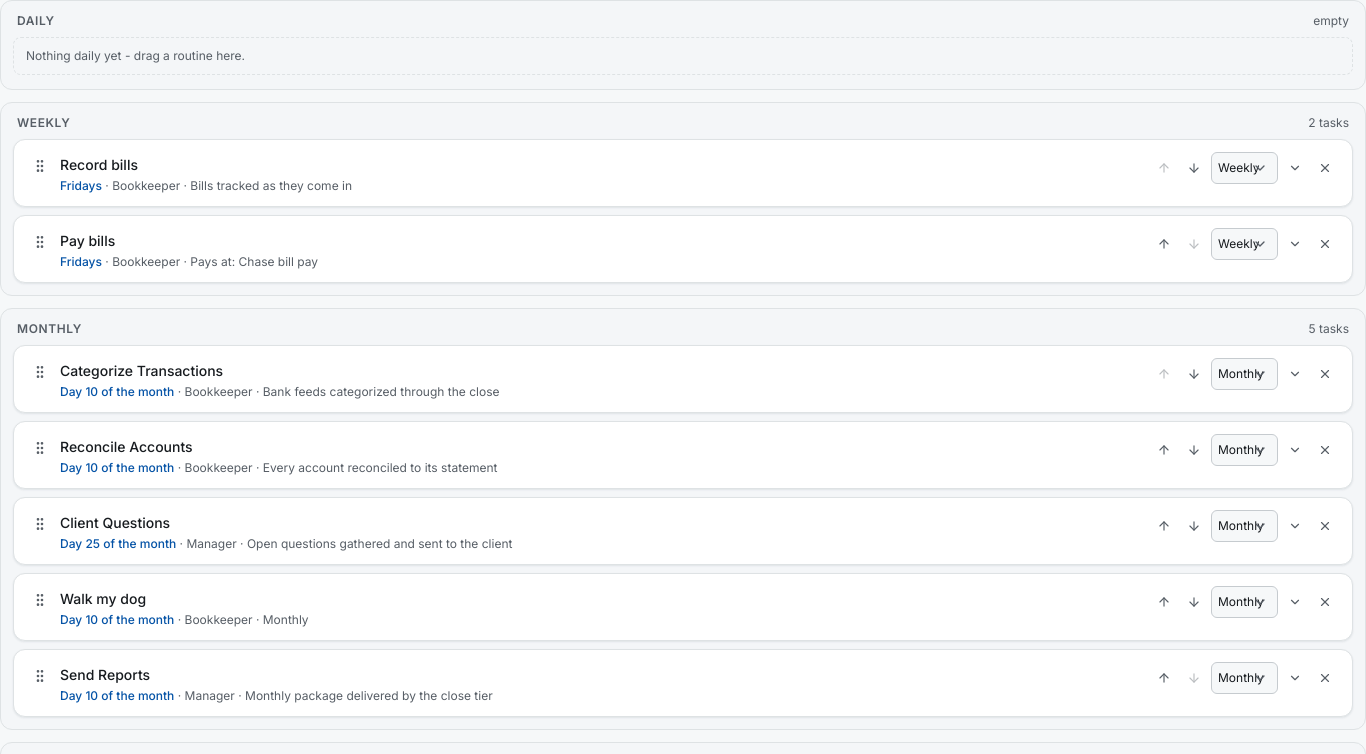
Test: L1/H2: scheduler_x_unticks_the_service (10_06 00:42:51) › X on record-bills confirms, then clears recordBills AND payBills with locations
The width and height of the screenshot is (1366, 754).
Expected: the list item with test id "routine-card-record-bills" is shown, [13,139,1353,207]
Click the button with test id "remove-record-bills" at (1325, 168), box [1312,155,1338,181]
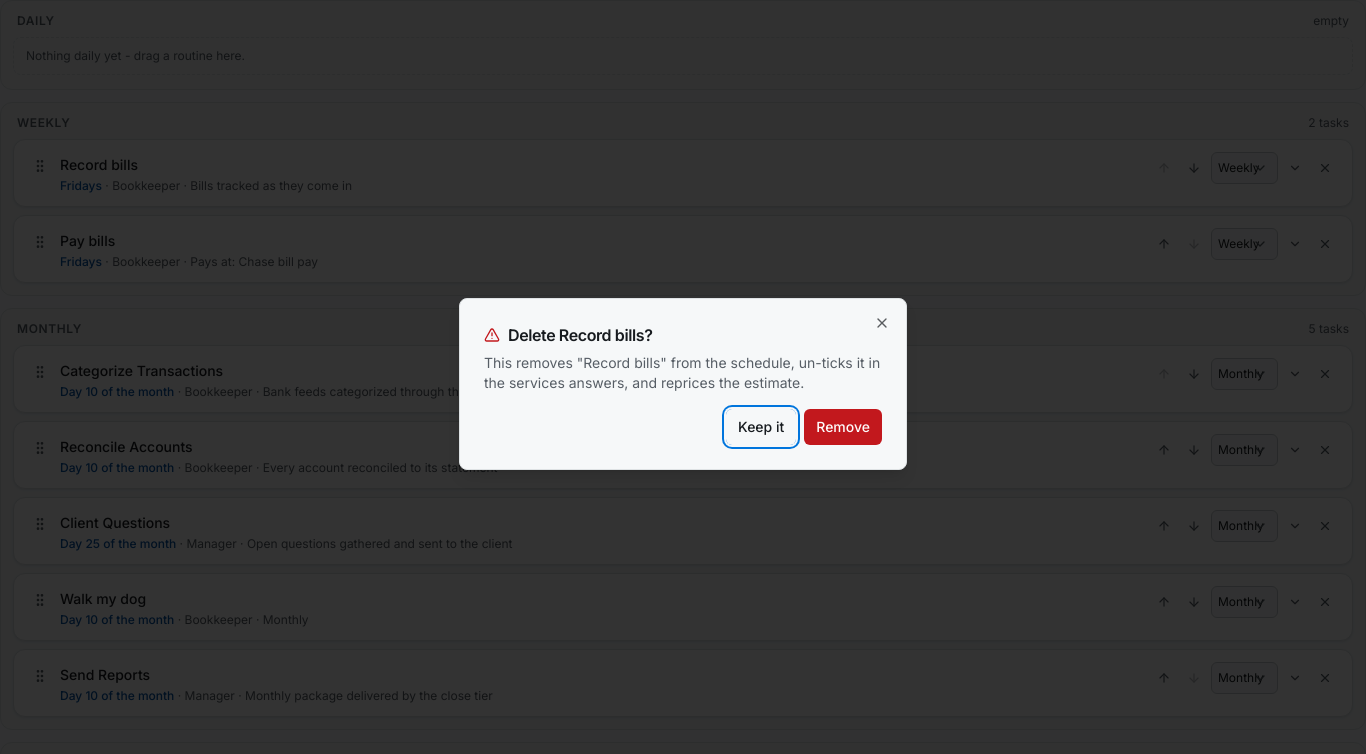
Now the dialog with test id "confirm-delete-dialog" shows "Record bills", box [559,325,644,345]
Click the button with test id "confirm-delete-confirm" at (843, 427), box [804,409,882,445]
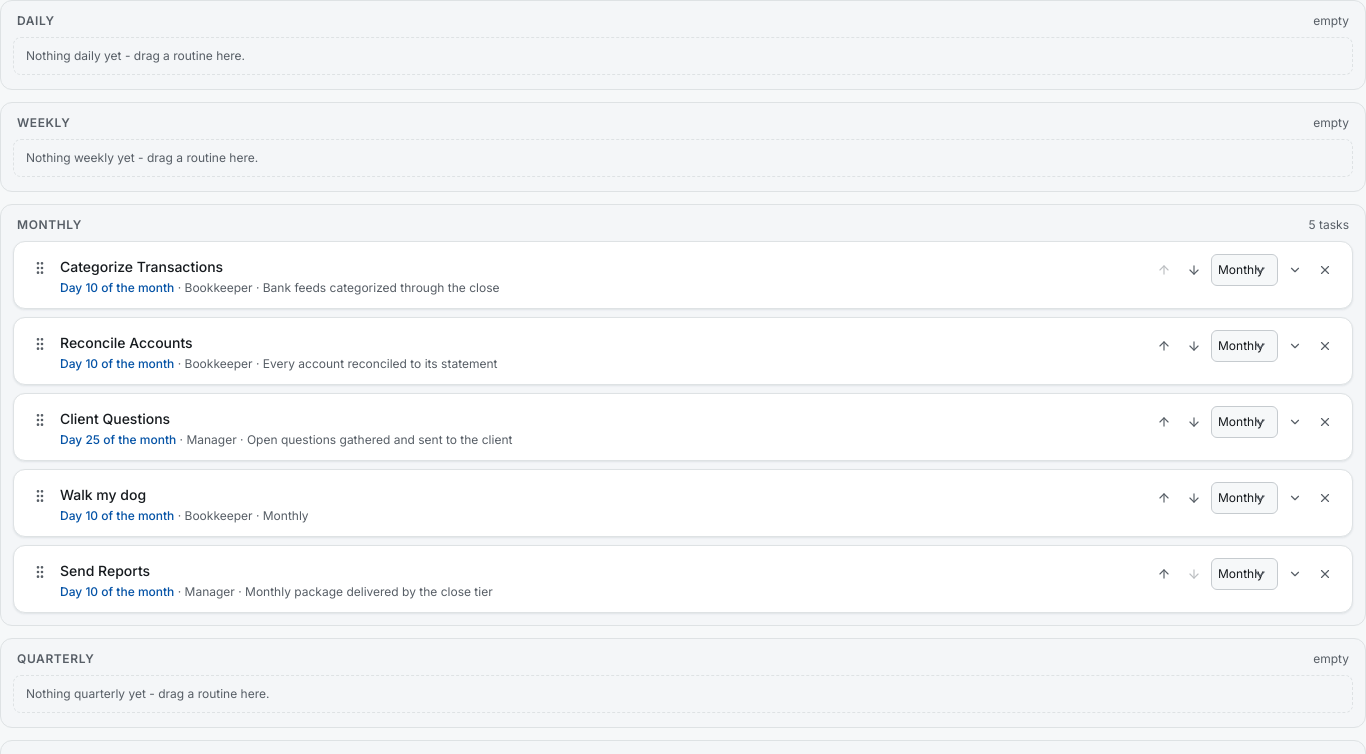
Now the list item with test id "routine-card-record-bills" is gone
Now the list item with test id "routine-card-pay-bills" is gone
